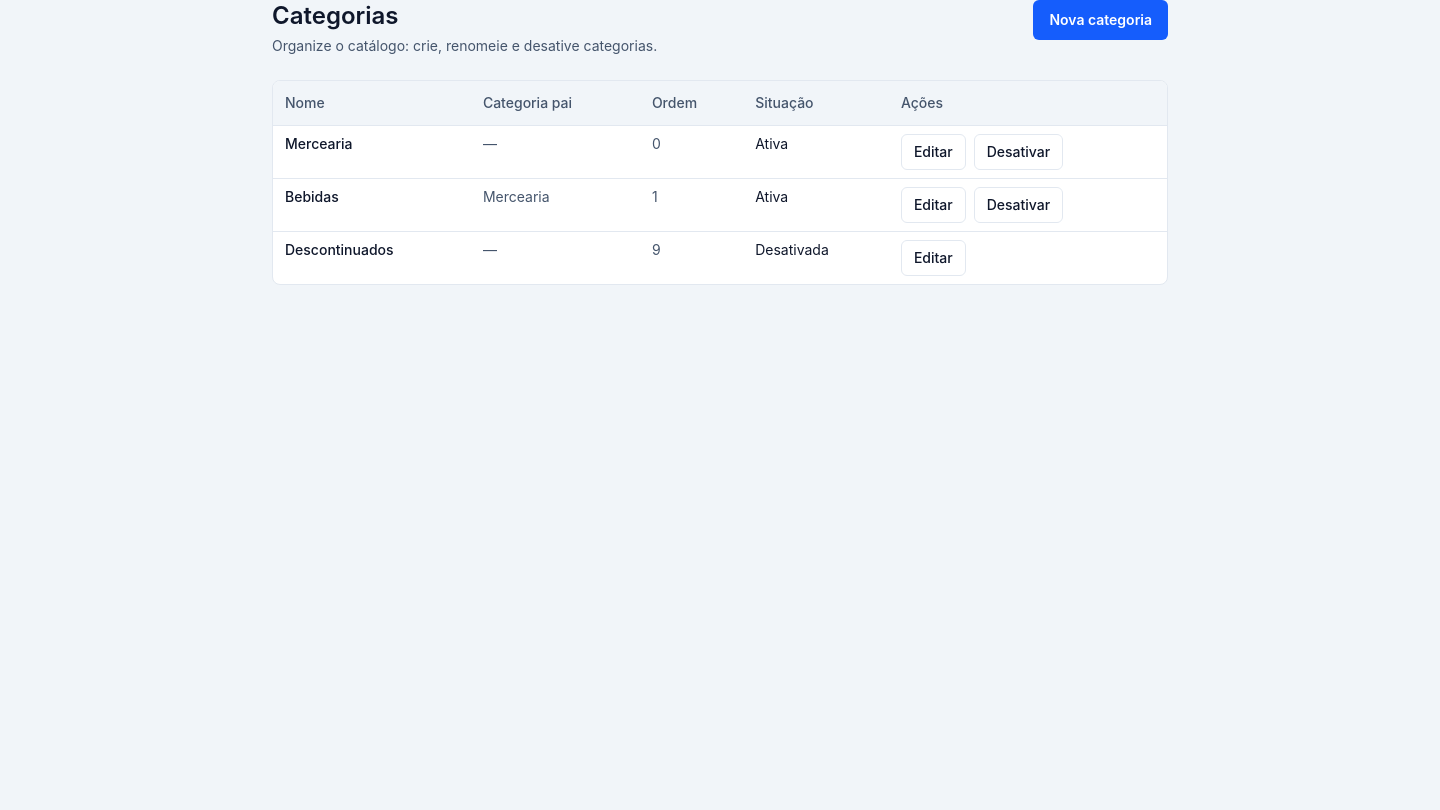
CategoriesPage — edição › semeia o formulário com a linha e manda o PUT sem If-Match
Expected: the cell "Bebidas" is shown, [273,178,471,232]
Click the button with aria-label "Editar Bebidas". click: {"x": 933, "y": 205}
box: [901,187,966,223]
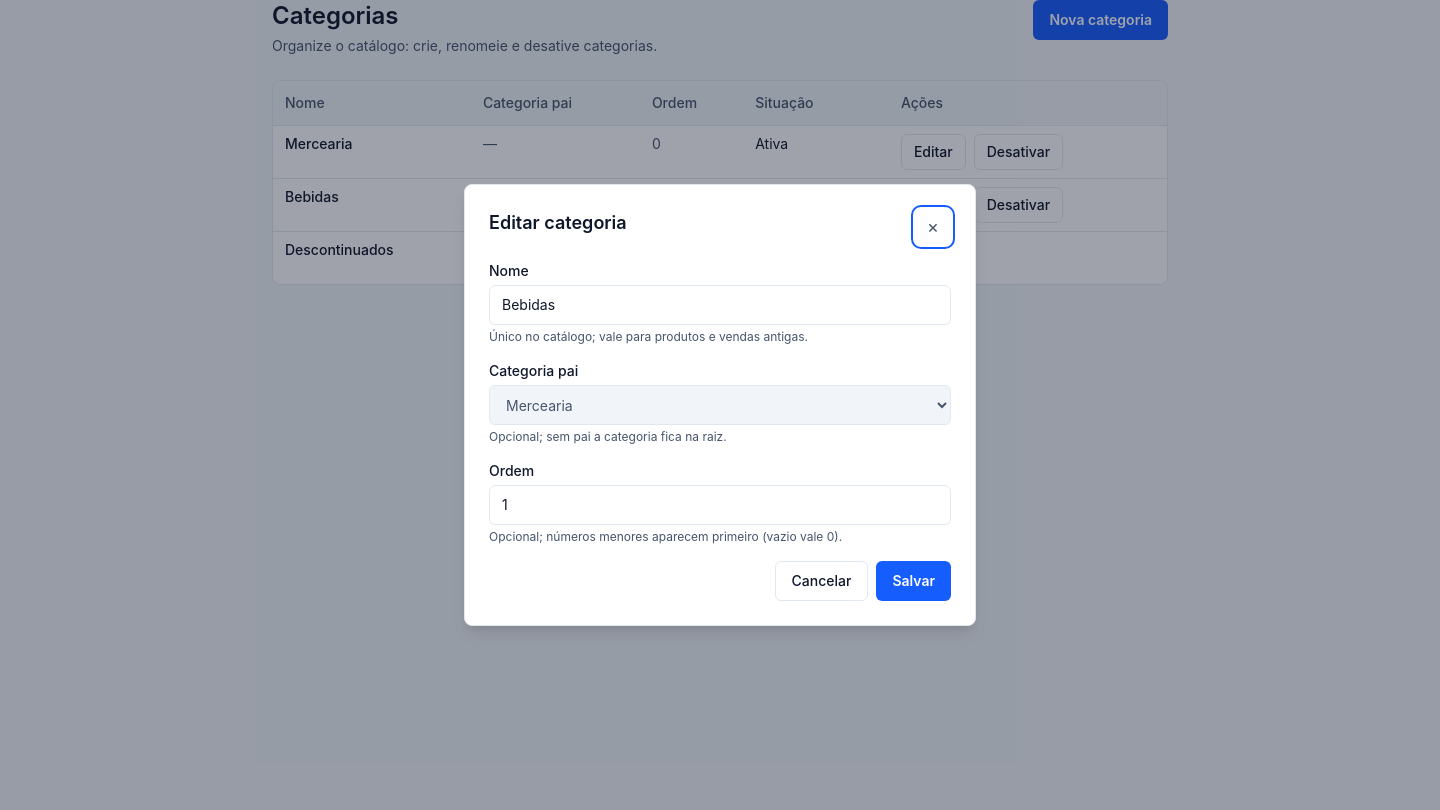
Expected: the field labelled "Ordem" holds "1", [489,485,951,525]
Result: the field labelled "Nome" holds "Bebidas"
Result: the dropdown labelled "Categoria pai" shows "Mercearia" at [489,385,951,425]
Replace the text in the field labelled "Nome" with "Bebidas e Sucos". click: {"x": 720, "y": 305}
box: [489,285,951,325]
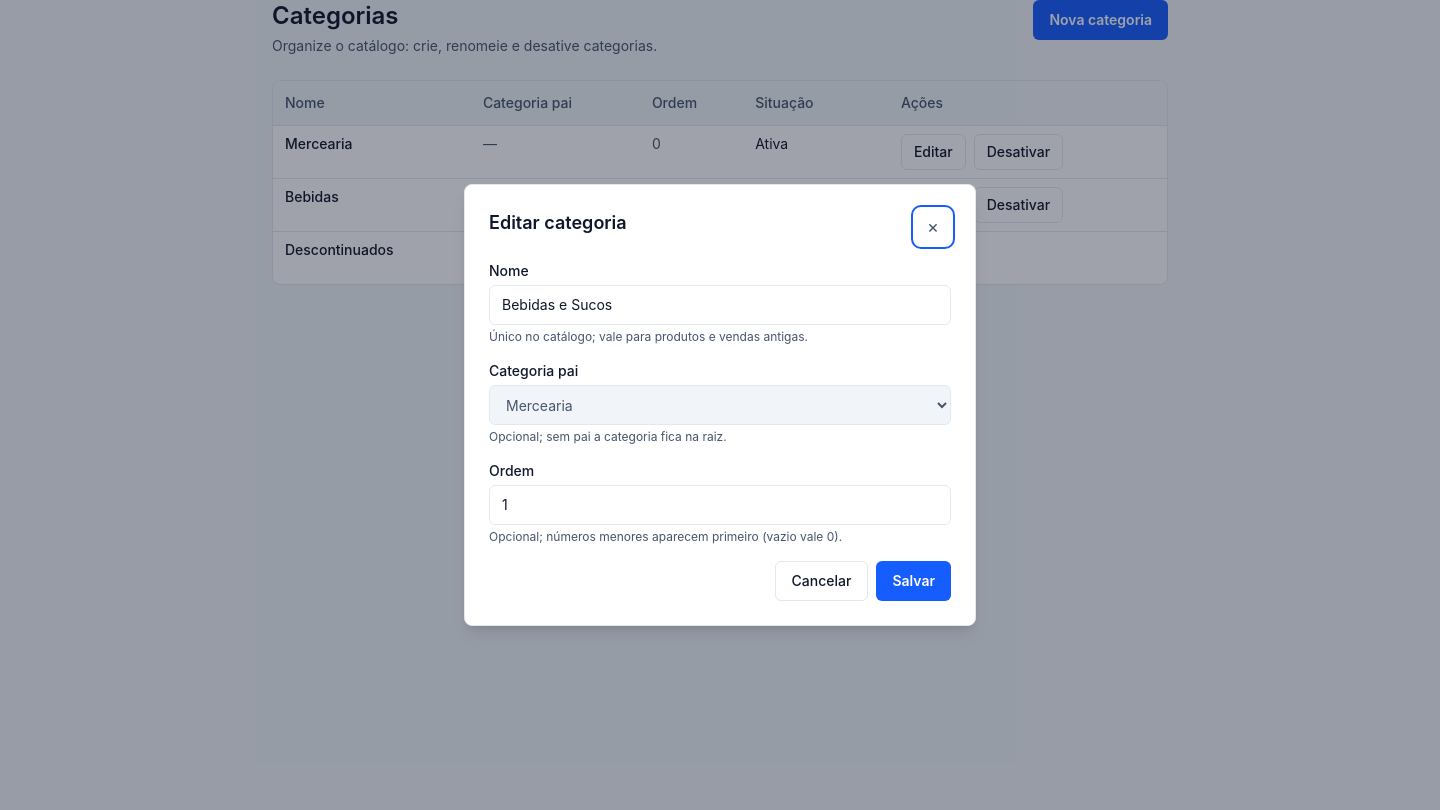
Click the button "Salvar". click: {"x": 914, "y": 581}
box: [876,561,951,601]
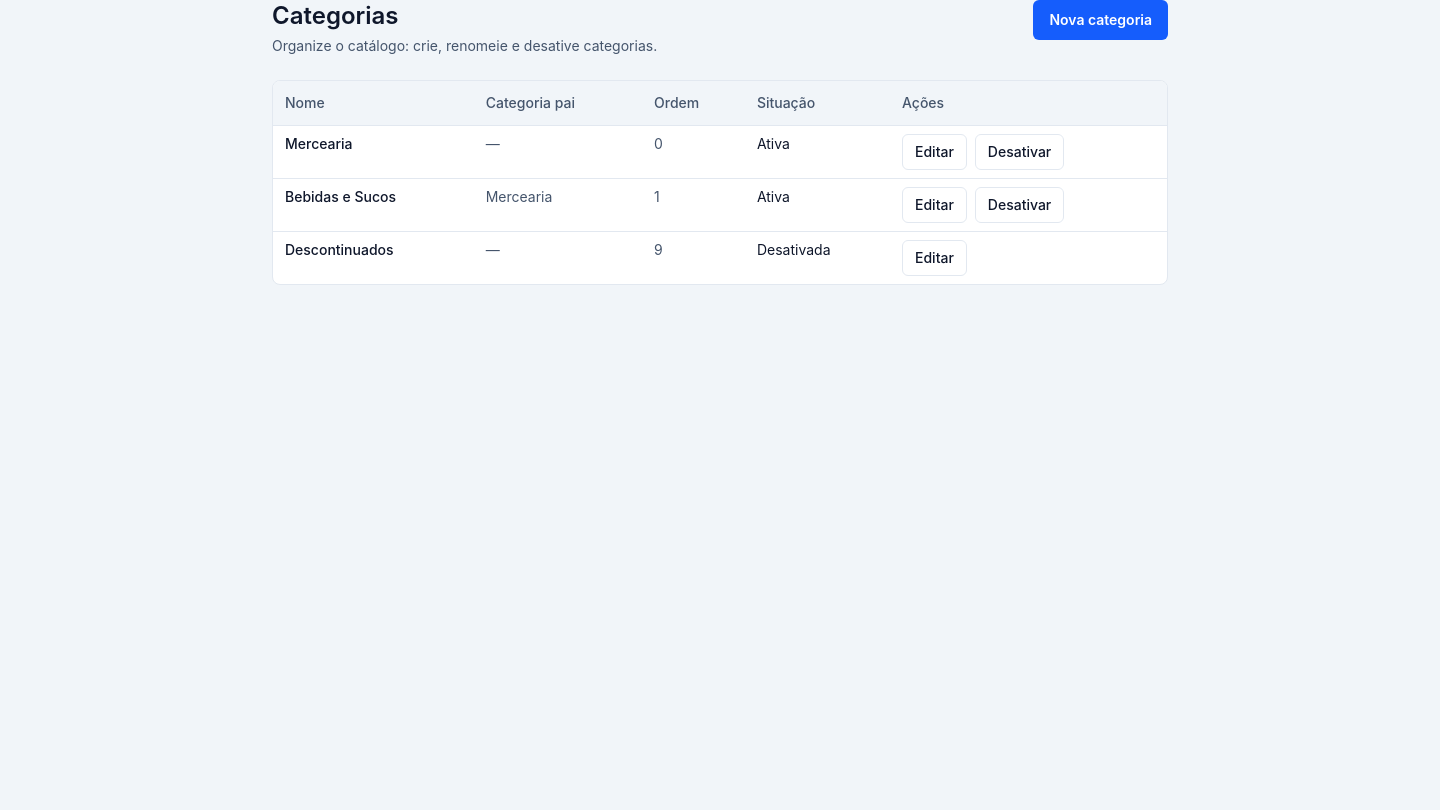
Result: the dialog is gone
